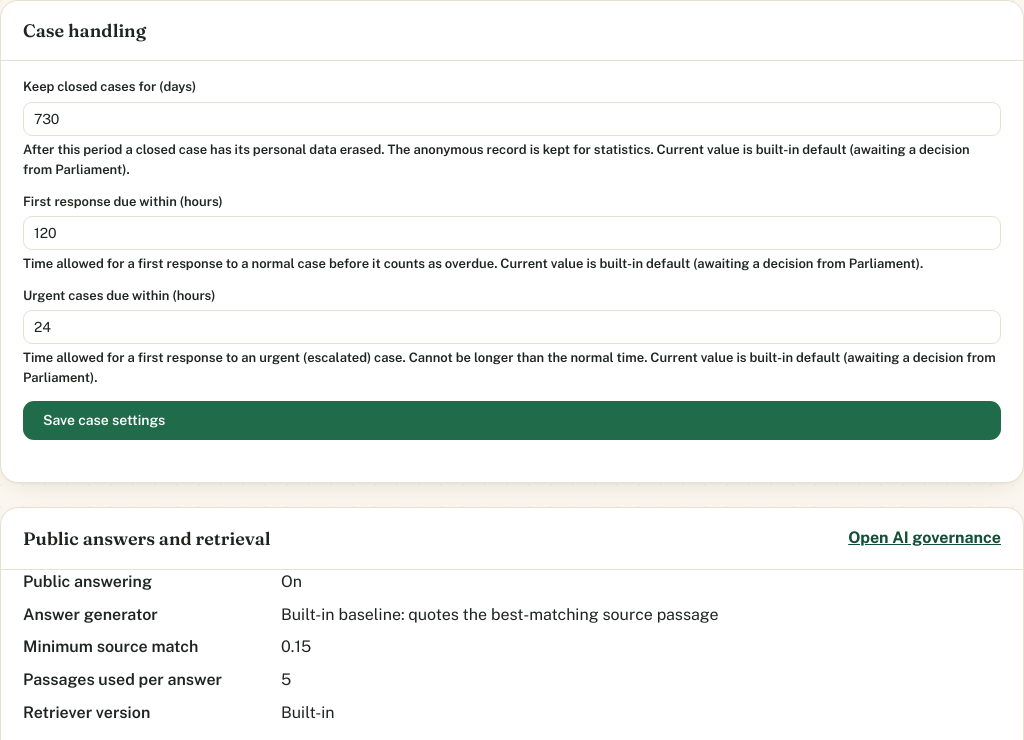
it: Settings screen › saves changed values and says where they came from afterwards
Check: the heading "Case handling" is shown, box 23,19 -> 146,42
Replace the text in the number field labelled "Keep closed cases for" with "365" at (512, 118), box 23,102 -> 1001,136
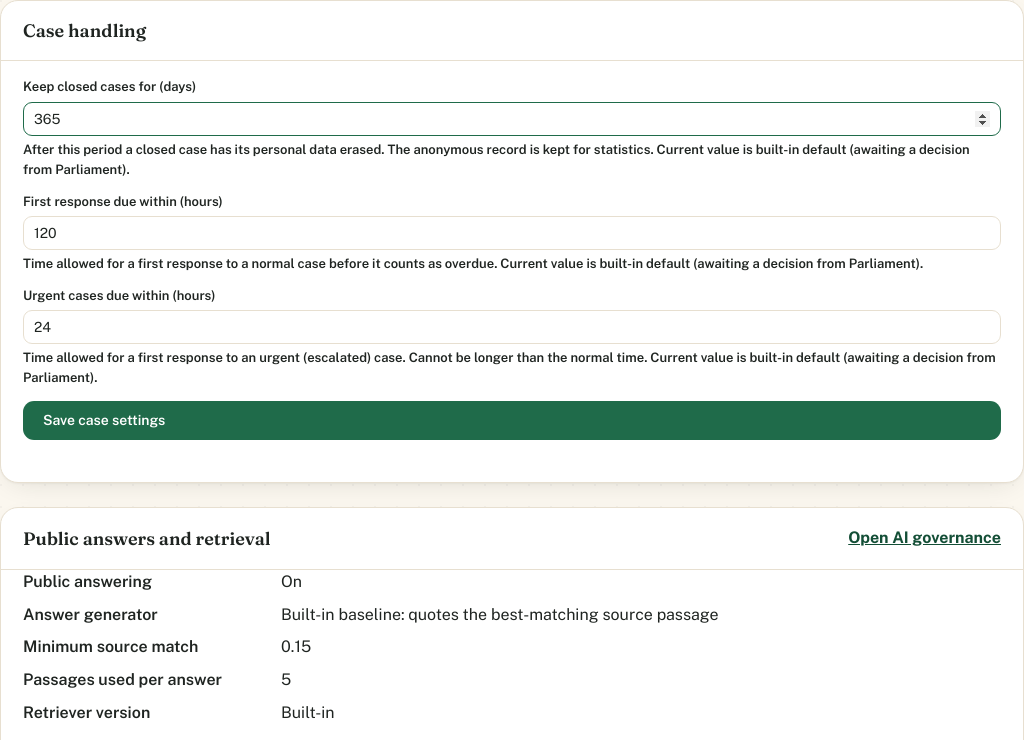
Replace the text in the number field labelled "First response due within" with "48" at (512, 233), box 23,216 -> 1001,250
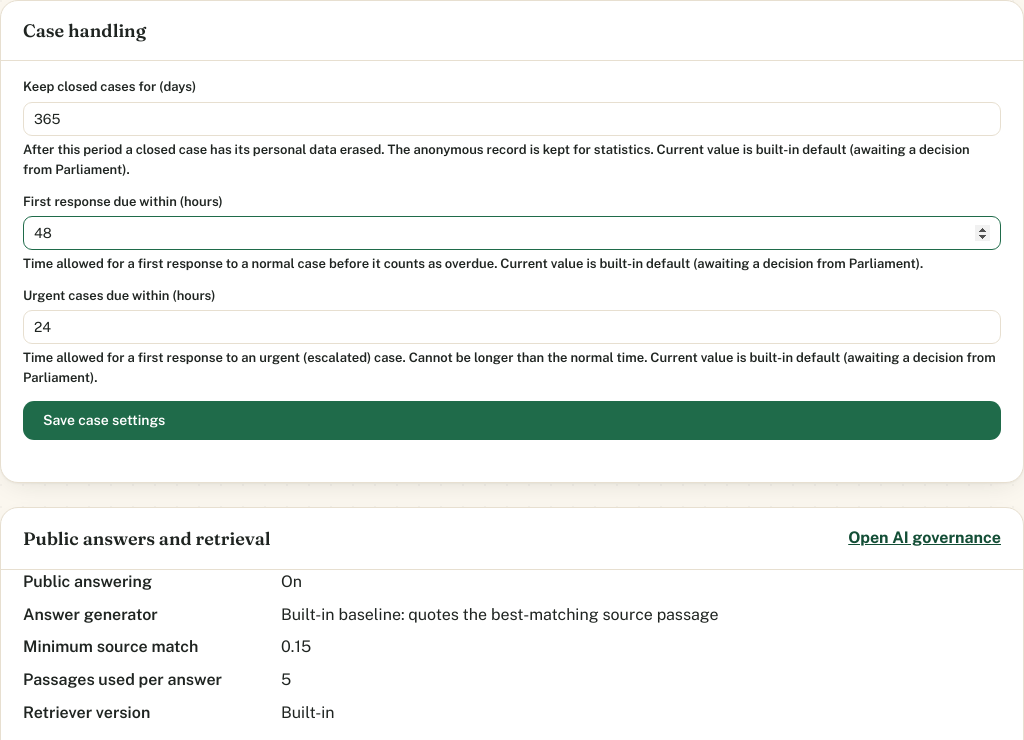
Replace the text in the number field labelled "Urgent cases due within" with "6" at (512, 327), box 23,310 -> 1001,344
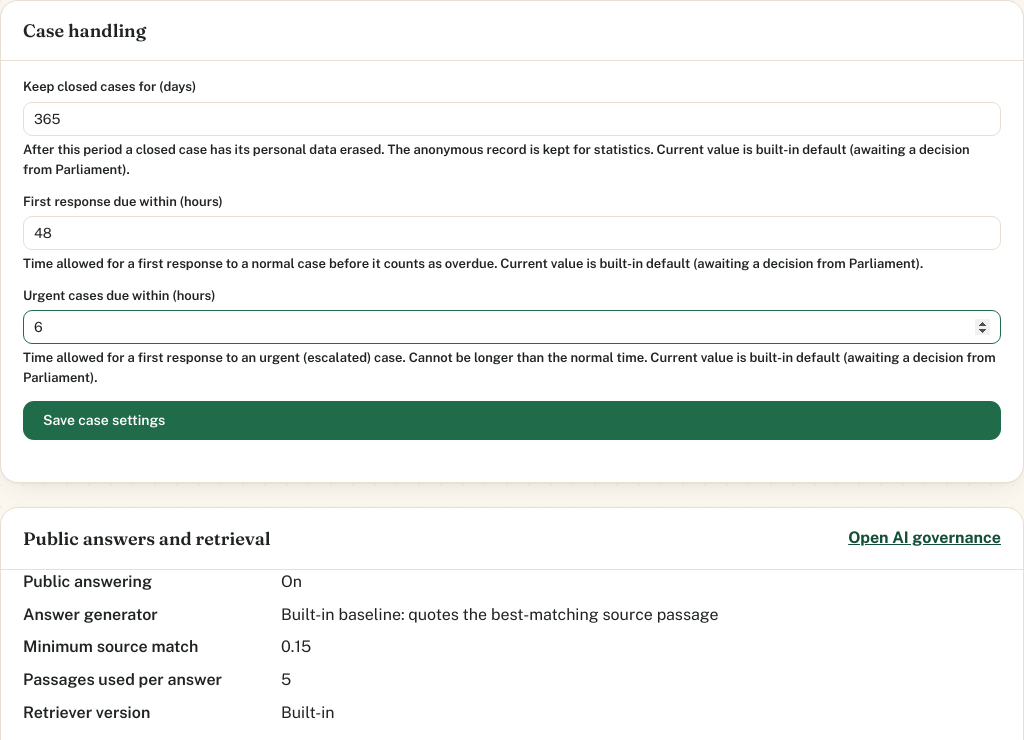
Click the button "Save case settings".
click(104, 420)  # box 23,400 -> 1001,440
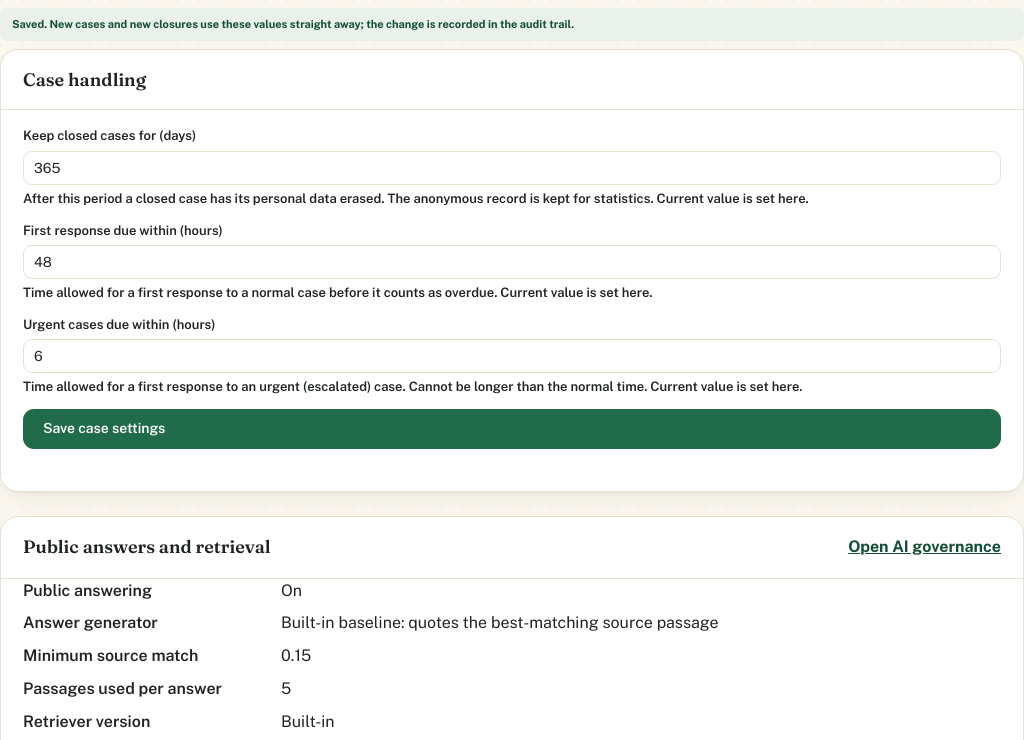
Check: the text "set here" is shown 3 times, box 23,191 -> 809,206; 23,285 -> 653,300; 23,379 -> 803,394
Check: the text "recorded in the audit trail" is shown, box 12,18 -> 574,30
